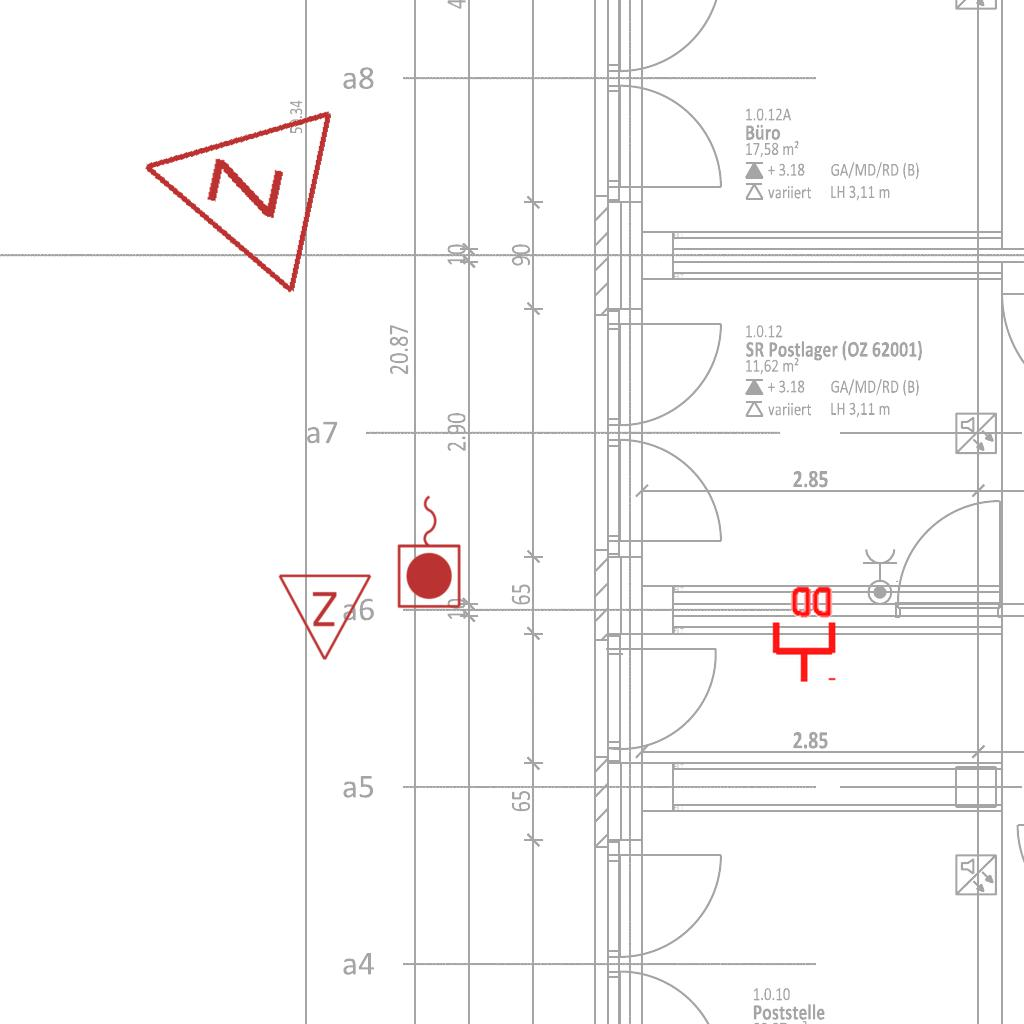Datenanschluss_zweifach: (768, 582, 837, 685)
Zimmersignalleuchte: (110, 70, 348, 304), (277, 567, 375, 667)
Zugtaster: (394, 490, 466, 612)
